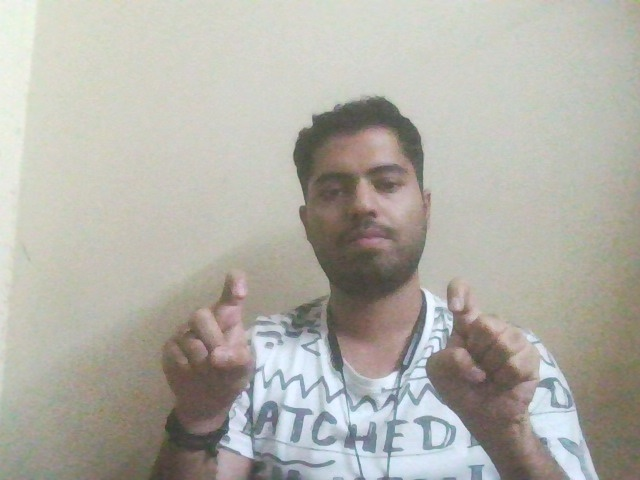No: (413, 263, 561, 444)
